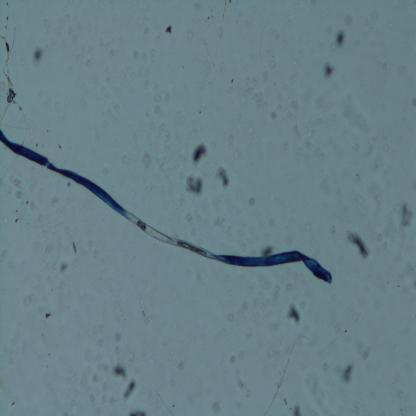Background material: (248, 74, 303, 122), (0, 23, 18, 120), (344, 96, 374, 153), (277, 336, 301, 389), (223, 298, 252, 329), (360, 178, 384, 214), (144, 83, 170, 116), (91, 341, 110, 384), (347, 227, 371, 259), (226, 130, 249, 160), (6, 171, 27, 203), (350, 302, 374, 326), (55, 93, 75, 117), (341, 355, 356, 387), (160, 122, 175, 154), (316, 178, 340, 198), (232, 376, 252, 399), (400, 197, 413, 231), (226, 348, 250, 366), (288, 301, 303, 329), (111, 360, 129, 383), (186, 174, 204, 196), (191, 143, 207, 167), (356, 340, 374, 361), (307, 368, 322, 393), (216, 166, 231, 190), (112, 328, 124, 357), (57, 15, 77, 32), (82, 39, 95, 65), (132, 48, 154, 63), (138, 18, 156, 36), (140, 298, 152, 325), (44, 242, 67, 256), (97, 36, 113, 56), (123, 378, 136, 402), (85, 387, 101, 405), (328, 32, 344, 50), (376, 229, 390, 249), (37, 216, 50, 237), (208, 395, 221, 416), (9, 327, 23, 346), (141, 151, 154, 171), (258, 242, 274, 258), (103, 104, 120, 119), (402, 93, 416, 111), (34, 42, 44, 66), (21, 291, 37, 306), (88, 240, 100, 260), (374, 55, 389, 71), (340, 14, 356, 29), (313, 93, 327, 110), (187, 390, 204, 404), (324, 61, 335, 82), (182, 207, 195, 224), (176, 356, 188, 374), (56, 262, 70, 276), (66, 399, 77, 415), (288, 404, 302, 416), (127, 408, 147, 416), (99, 164, 112, 176), (160, 158, 171, 172), (70, 238, 78, 256), (380, 144, 389, 159), (183, 28, 194, 40), (217, 217, 229, 228), (28, 200, 38, 212), (290, 1, 300, 13), (273, 285, 280, 300), (164, 23, 172, 36), (167, 377, 177, 387), (44, 308, 52, 320), (276, 33, 288, 41), (248, 194, 255, 206), (321, 362, 330, 371), (50, 196, 58, 206), (292, 60, 300, 69), (397, 390, 406, 398), (268, 218, 275, 227), (45, 349, 52, 356), (10, 399, 16, 407), (4, 216, 9, 225), (66, 180, 72, 187), (14, 215, 20, 222), (63, 411, 69, 416), (56, 143, 62, 148), (34, 142, 39, 147), (15, 209, 19, 214), (50, 288, 54, 292), (40, 333, 44, 337), (46, 366, 49, 370)
Cotton: (0, 129, 332, 285)
